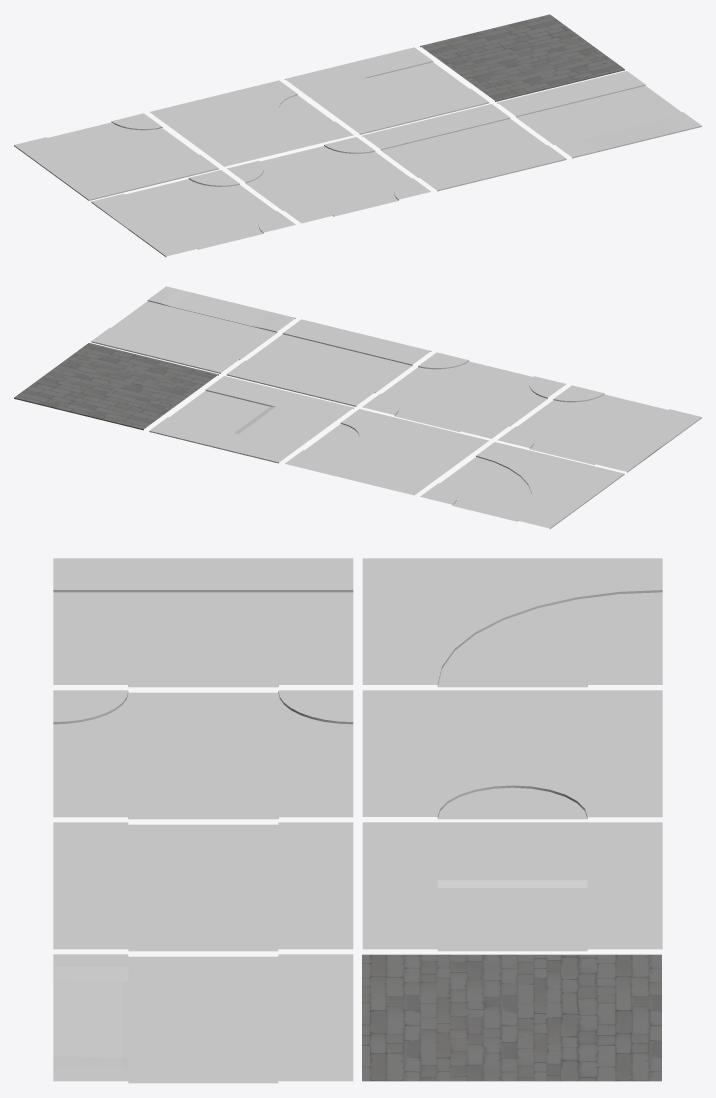
Rendered from StreetSet.fbx.
The picture shows the model from 3 angles, top to bottom: view 1: azimuth 30°, elevation 25°; view 2: azimuth 150°, elevation 25°; view 3: azimuth 270°, elevation 25°; orthographic projection. The views are drawn at different scales.
Parts seen in each view (by area): view 1: Street_Bump, Street, Street.001, Street_Curve90, Street_EndBump, Street_T, Street_X, Street_CurveEnd; view 2: Street, Street_Bump, Street.001, Street_Curve90, Street_EndBump, Street_T, Street_X, Street_CurveEnd; view 3: Street_EndBump, Street_CurveEnd, Street_Curve90, Street_T, Street, Street_X, Street_Bump, Street.001.
Part boxes in pixels (x1=…): Street_Bump: x1=497, y1=71, x2=701, y2=158; Street: x1=362, y1=104, x2=566, y2=191; Street.001: x1=420, y1=14, x2=624, y2=101; Street_Curve90: x1=14, y1=113, x2=218, y2=200; Street_EndBump: x1=284, y1=47, x2=489, y2=134; Street_T: x1=91, y1=170, x2=295, y2=257; Street_X: x1=227, y1=137, x2=430, y2=223; Street_CurveEnd: x1=150, y1=80, x2=353, y2=166; Street: x1=226, y1=319, x2=431, y2=406; Street_Bump: x1=91, y1=286, x2=295, y2=373; Street.001: x1=14, y1=343, x2=218, y2=430; Street_Curve90: x1=420, y1=442, x2=624, y2=529; Street_EndBump: x1=149, y1=376, x2=353, y2=463; Street_T: x1=497, y1=385, x2=701, y2=472; Street_X: x1=362, y1=352, x2=566, y2=438; Street_CurveEnd: x1=285, y1=409, x2=488, y2=495; Street_EndBump: x1=362, y1=822, x2=662, y2=951; Street_CurveEnd: x1=362, y1=690, x2=662, y2=819; Street_Curve90: x1=362, y1=558, x2=662, y2=687; Street_T: x1=53, y1=558, x2=353, y2=687; Street: x1=53, y1=822, x2=353, y2=951; Street_X: x1=53, y1=690, x2=353, y2=819; Street_Bump: x1=53, y1=954, x2=353, y2=1083; Street.001: x1=362, y1=954, x2=661, y2=1081.
Bounding box in the file's own units: 9902 × 20.03 × 4874.
